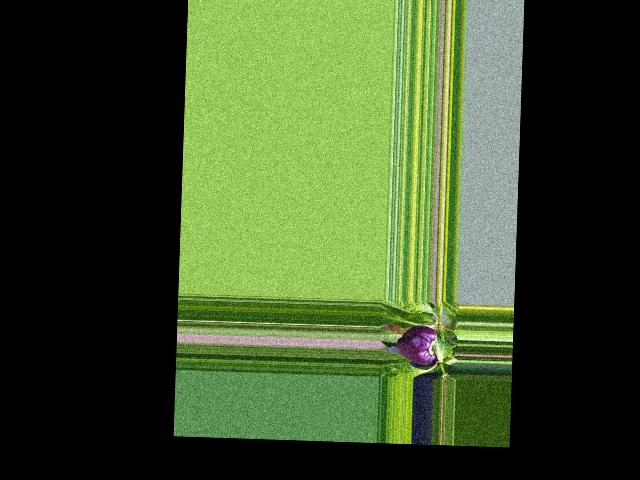bell_pepper: (394, 323, 442, 365)
